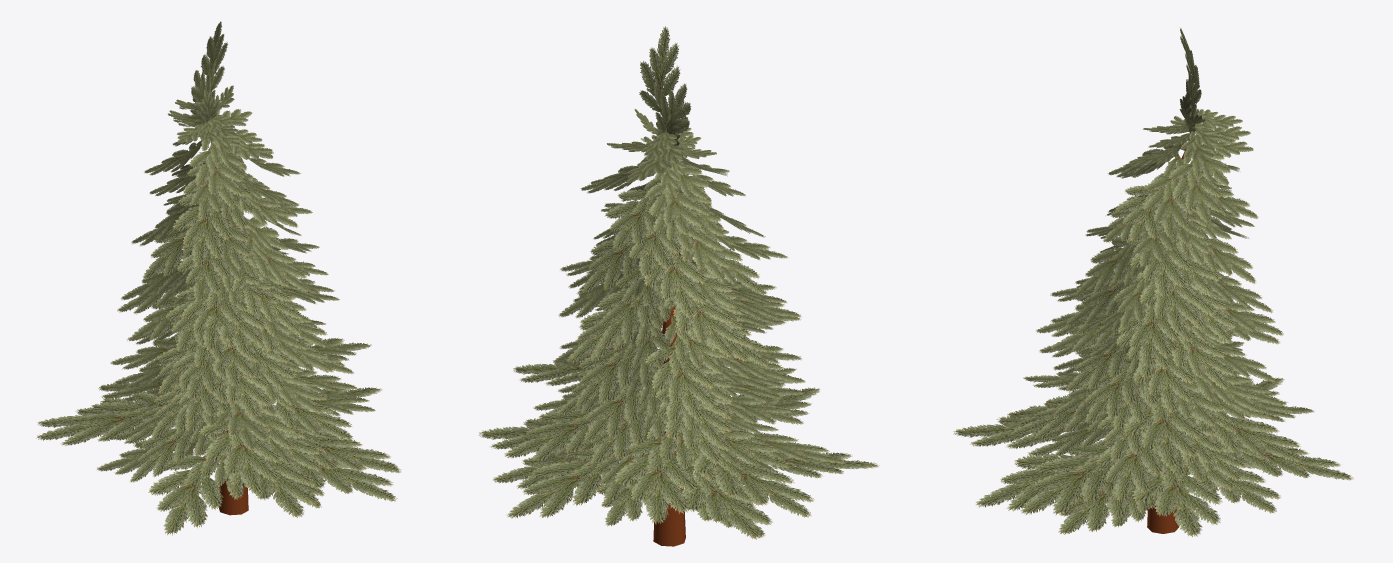
File: tree.fbx
3 views of the same model, side by side, from view 1: azimuth 30°, elevation 25°; view 2: azimuth 150°, elevation 25°; view 3: azimuth 270°, elevation 25° (orthographic). The views are drawn at different scales.
Parts seen in each view (by area): view 1: leaves, tree; view 2: leaves, tree; view 3: leaves, tree.
Part boxes in pixels (<box>): leaves: <box>36,21,400,535</box>; tree: <box>211,142,248,515</box>; leaves: <box>479,26,879,539</box>; tree: <box>653,252,685,546</box>; leaves: <box>953,28,1353,537</box>; tree: <box>1147,140,1189,533</box>.
Size of the model in its own units: 472 by 614 by 493.
